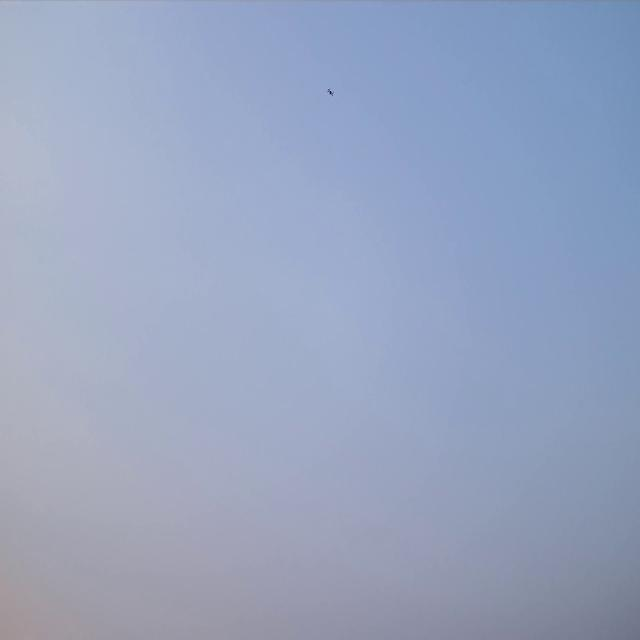UAV: (328, 89, 333, 95)
